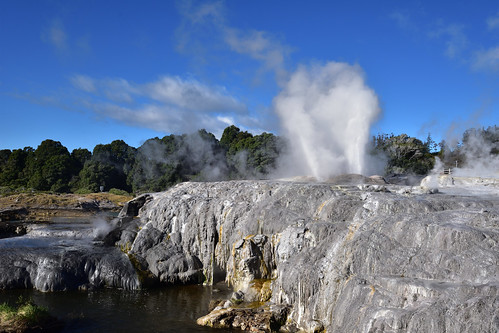rocks: (121, 180, 499, 333)
sky: (1, 1, 490, 120)
smoke: (281, 72, 375, 180)
vegetation: (1, 126, 290, 193)
